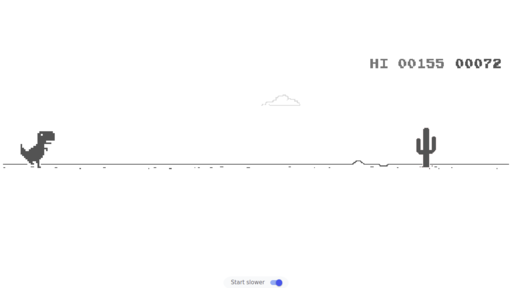dino: (19, 129, 57, 169)
tree: (416, 127, 437, 167)
